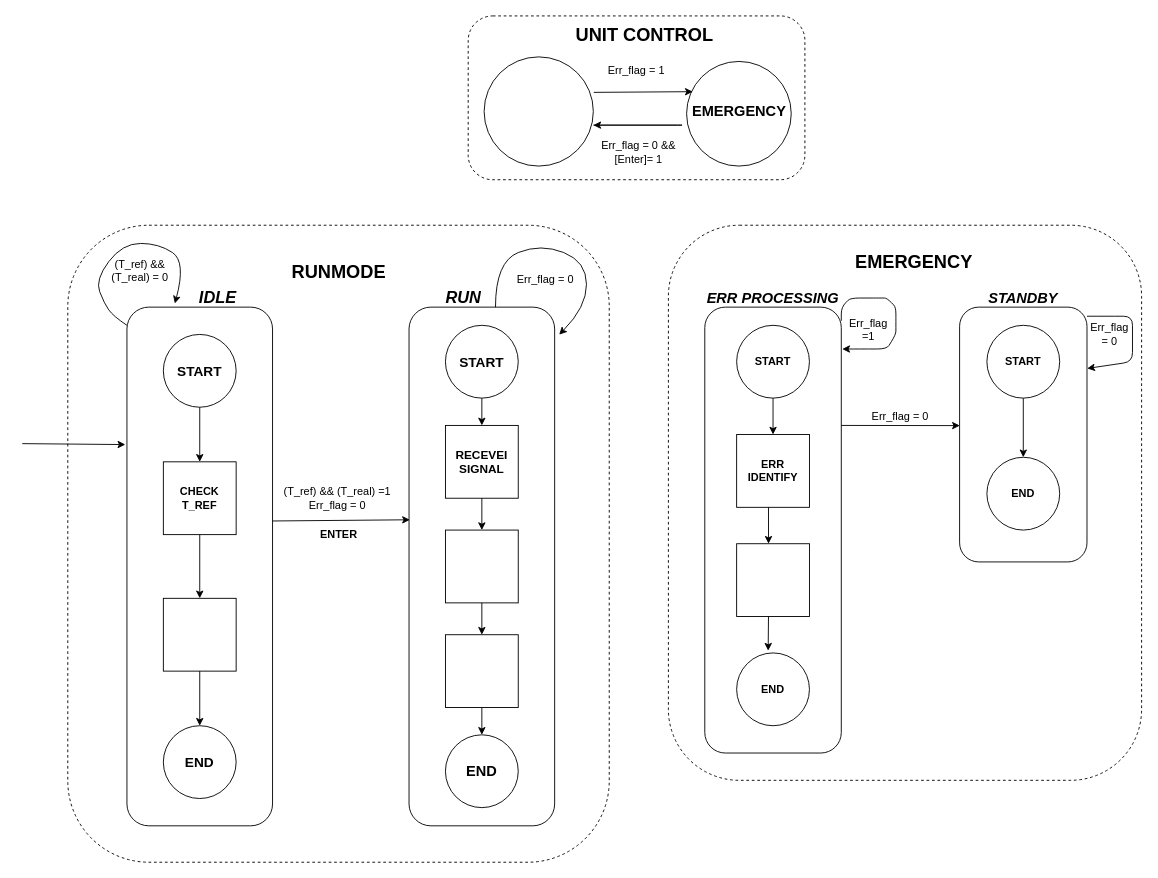
Some shapes in this 1158 by 878 pixel diagram are drawn without their labels. Here are the shapes that lost their labels. From the top down, the centre of each, then its label:
At pixel 538 111: "RUN MODE".
At pixel 481 566: "CALCULATE".
At pixel 772 580: "PROCESSING".
At pixel 199 634: "CHECK T_REAL".
At pixel 481 671: "OUTPUT".
